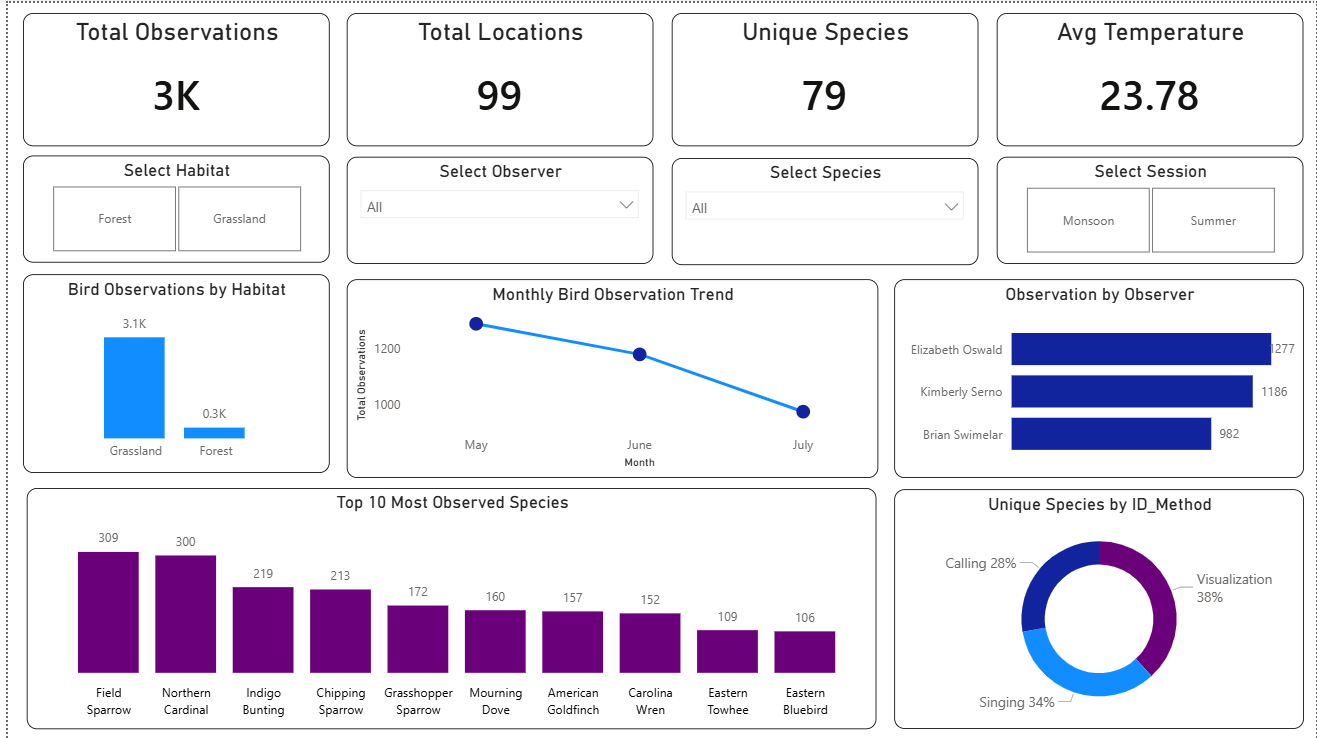

The dashboard page shown, as its layout file describes it:
{"tool":"powerbi","page":{"name":"1 - Overview","canvas":[1280,720],"ordinal":0},"visuals":[{"type":"cardVisual","title":"Total Observations","fields":{"Data":["Merge_on_Forest&Grassland.Total Observations"]},"box":[15.2,9.5,300,130],"z":0},{"type":"cardVisual","title":"Total Locations","fields":{"Data":["Merge_on_Forest&Grassland.Total Locations"]},"box":[331.7,9.5,299.8,130],"z":1000},{"type":"cardVisual","title":"Unique Species","fields":{"Data":["Merge_on_Forest&Grassland.Unique Species"]},"box":[649.7,9.5,299.8,130],"z":2000},{"type":"cardVisual","title":"Avg Temperature","fields":{"Data":["Merge_on_Forest&Grassland.Avg Temperature"]},"box":[967.8,9.5,299.8,130],"z":3000},{"type":"clusteredColumnChart","title":"Bird Observations by Habitat","fields":{"Category":["Merge_on_Forest&Grassland.Habitat"],"Y":["Merge_on_Forest&Grassland.Total Observations"]},"box":[15.2,264.8,299.8,194.8],"z":4000},{"type":"lineChart","title":"Monthly Bird Observation Trend","fields":{"Category":["Merge_on_Forest&Grassland.Date.Variation.Date Hierarchy.Month"],"Y":["Merge_on_Forest&Grassland.Total Observations"]},"box":[331.4,270.2,519.7,194.4],"z":5000},{"type":"columnChart","title":"Top 10 Most Observed Species","fields":{"Category":["Merge_on_Forest&Grassland.Common_Name"],"Y":["Merge_on_Forest&Grassland.Total Observations"]},"box":[18.3,474.5,831.5,236],"z":6000},{"type":"clusteredBarChart","title":"Observation by Observer","fields":{"Category":["Merge_on_Forest&Grassland.Observer"],"Y":["Merge_on_Forest&Grassland.Total Observations"]},"box":[867,270.2,401.1,194.4],"z":7000},{"type":"donutChart","fields":{"Category":["Merge_on_Forest&Grassland.ID_Method"],"Y":["Merge_on_Forest&Grassland.Unique Species"]},"box":[867,475.7,401.1,234.8],"z":8000},{"type":"slicer","title":"Select Habitat","fields":{"Values":["Merge_on_Forest&Grassland.Location_Type"]},"box":[15.2,149.2,299.8,105],"z":9000},{"type":"slicer","title":"Select Observer","fields":{"Values":["Merge_on_Forest&Grassland.Observer"]},"box":[331.7,150.6,299.8,105],"z":10000},{"type":"slicer","title":"Select Species","fields":{"Values":["Merge_on_Forest&Grassland.Common_Name"]},"box":[649.7,152.2,299.8,105],"z":11000},{"type":"slicer","title":"Select Session","fields":{"Values":["Merge_on_Forest&Grassland.Season"]},"box":[967.8,150.6,299.8,105],"z":12000}]}

Visuals, with their boxes in screenshot pixels (x1, y1, x2, y2), scaled from the page's 1280x720 canvas onto the 1317x738 screenshot:
"Total Observations" cardVisual: <region>16, 10, 324, 143</region>
"Total Locations" cardVisual: <region>341, 10, 650, 143</region>
"Unique Species" cardVisual: <region>668, 10, 977, 143</region>
"Avg Temperature" cardVisual: <region>996, 10, 1304, 143</region>
"Bird Observations by Habitat" clusteredColumnChart: <region>16, 271, 324, 471</region>
"Monthly Bird Observation Trend" lineChart: <region>341, 277, 876, 476</region>
"Top 10 Most Observed Species" columnChart: <region>19, 486, 874, 728</region>
"Observation by Observer" clusteredBarChart: <region>892, 277, 1305, 476</region>
donutChart - Merge_on_Forest&Grassland.ID_Method x Merge_on_Forest&Grassland.Unique Species: <region>892, 488, 1305, 728</region>
"Select Habitat" slicer: <region>16, 153, 324, 261</region>
"Select Observer" slicer: <region>341, 154, 650, 262</region>
"Select Species" slicer: <region>668, 156, 977, 264</region>
"Select Session" slicer: <region>996, 154, 1304, 262</region>
